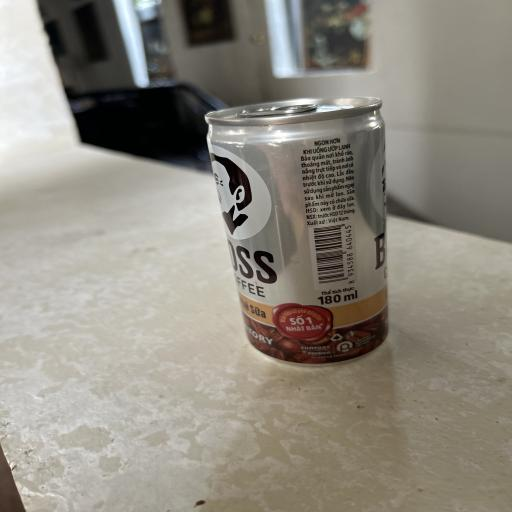boss_coffee: (196, 95, 396, 376)
